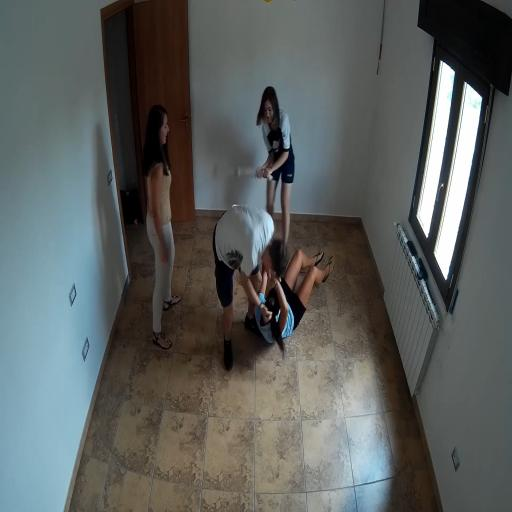violencia: (207, 64, 299, 354), (208, 190, 350, 367)
